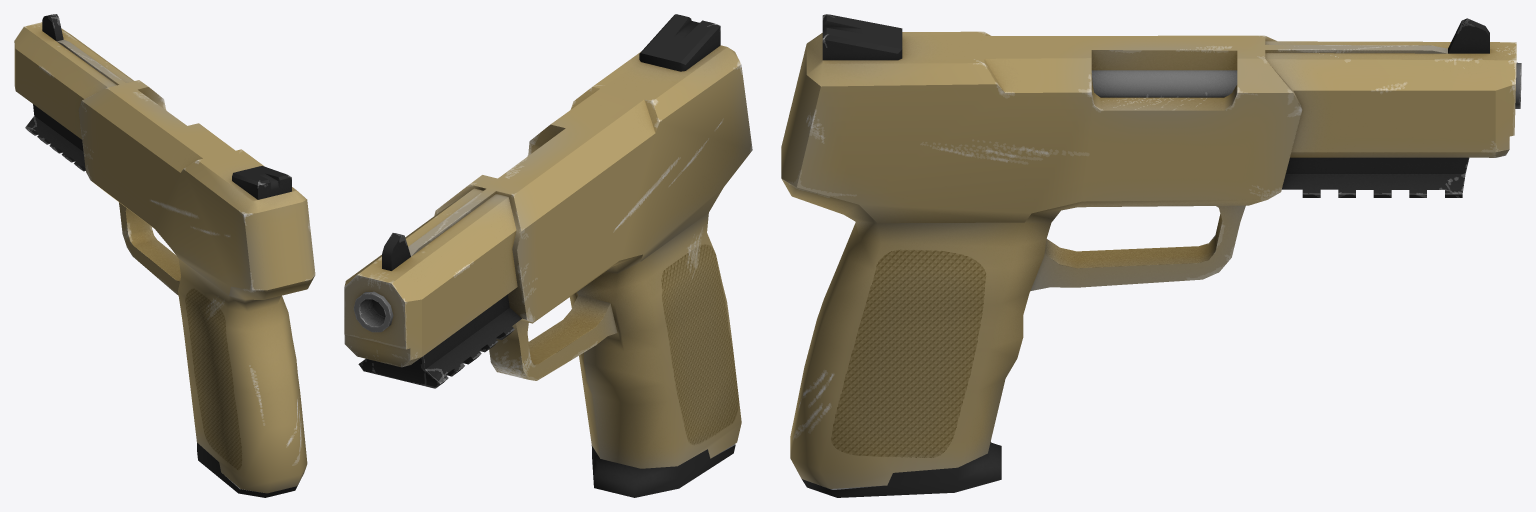
Rendered from Pistol.glb.
The picture shows the model from 3 angles, left to right: view 1: azimuth 30°, elevation 25°; view 2: azimuth 150°, elevation 25°; view 3: azimuth 270°, elevation 25°; orthographic projection. The views are drawn at different scales.
Visible parts, largest first — view 1: Pistol; view 2: Pistol; view 3: Pistol.
Boxes of the visible parts, x1,y1,x2,y2 form: Pistol: [14, 14, 315, 497]; Pistol: [344, 14, 752, 497]; Pistol: [781, 14, 1521, 497].
Size of the model in its own units: 0.035 by 0.1655 by 0.2434.
1 material, 1 textured.
